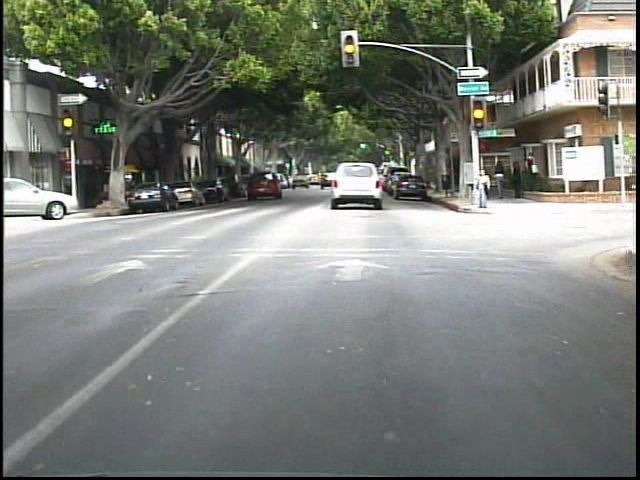person: (470, 165, 492, 213), (523, 151, 540, 191), (510, 162, 526, 204), (494, 160, 510, 201)
